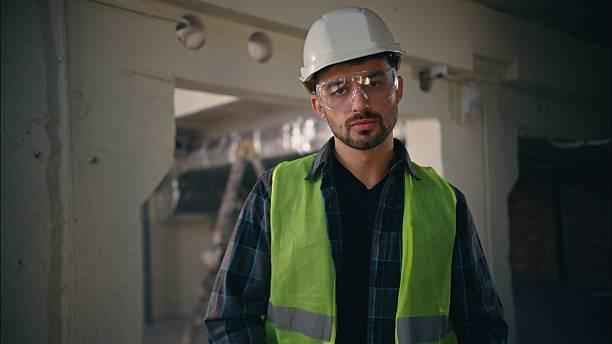goggle: (310, 69, 400, 111)
helmet: (294, 5, 409, 80)
vest: (263, 145, 465, 344)
